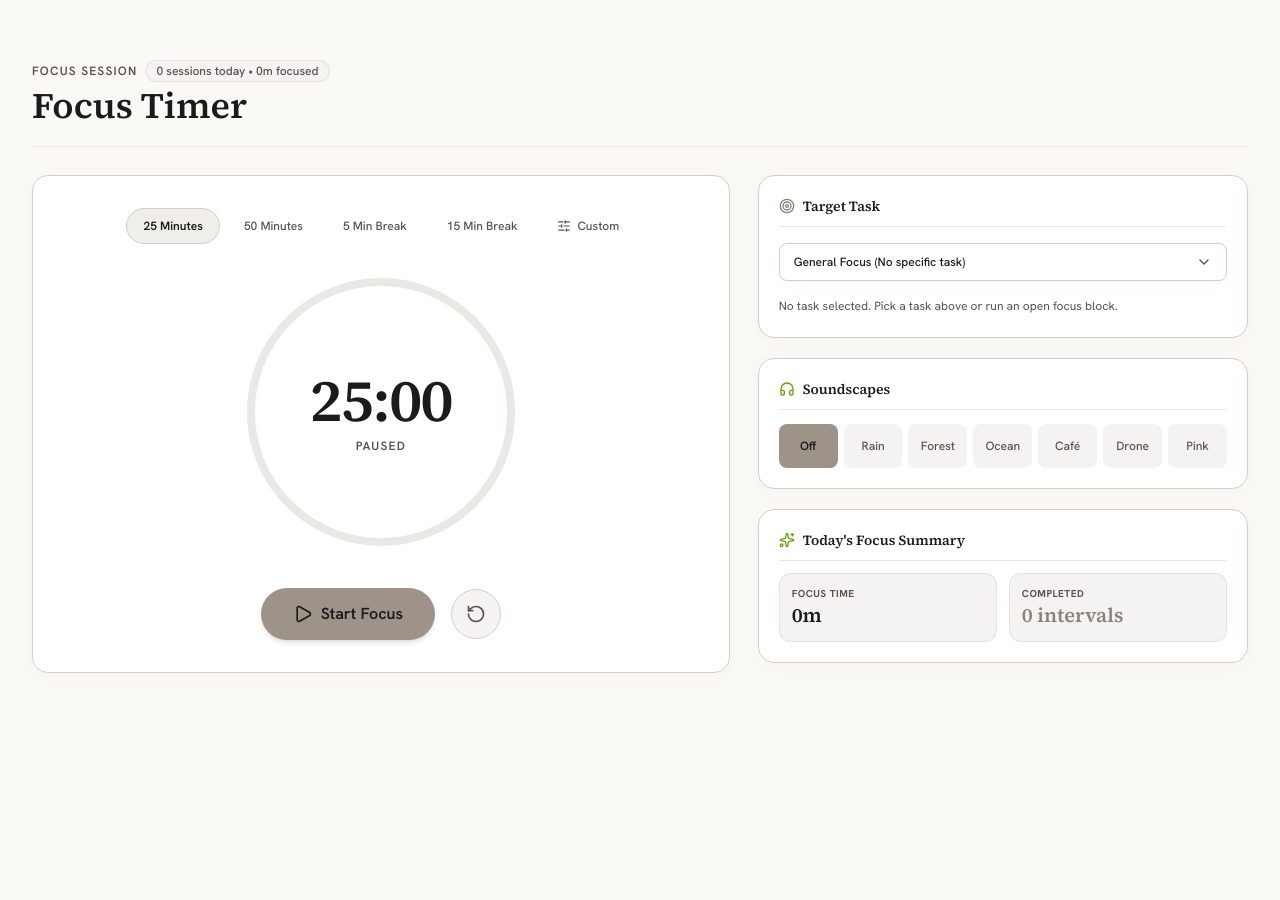
FocusView Component › renders timer presets and switches countdown display
Expected: the heading "Focus Timer" is shown, [32,81,247,130]
Expected: the text "25:00" is shown, [310,370,452,430]
Click the button "5 Min Break" at [375, 226], box [327,208,423,244]
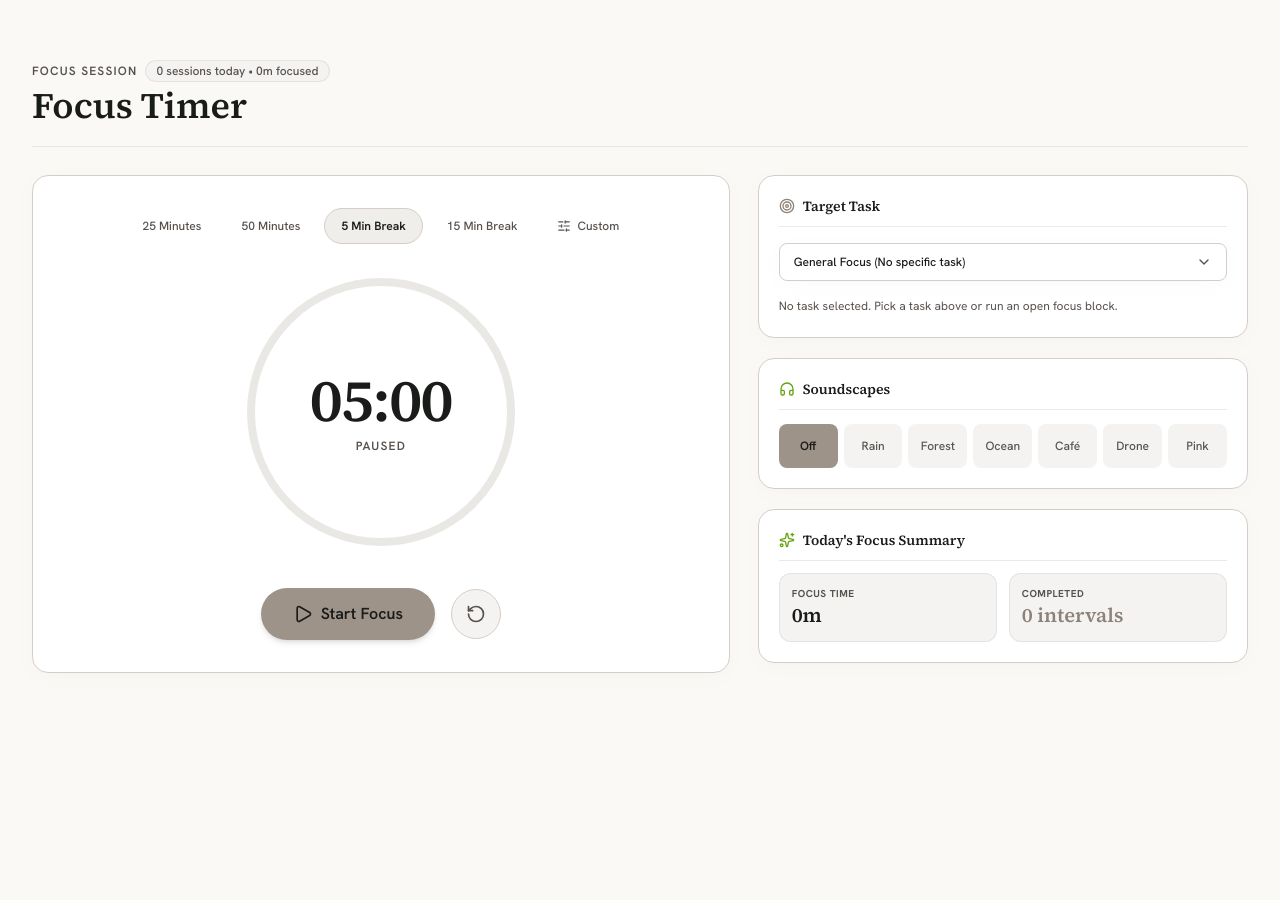
Now the text "05:00" is shown, box [310,370,452,430]
Click the button "50 Minutes" at [271, 226], box [225,208,316,244]
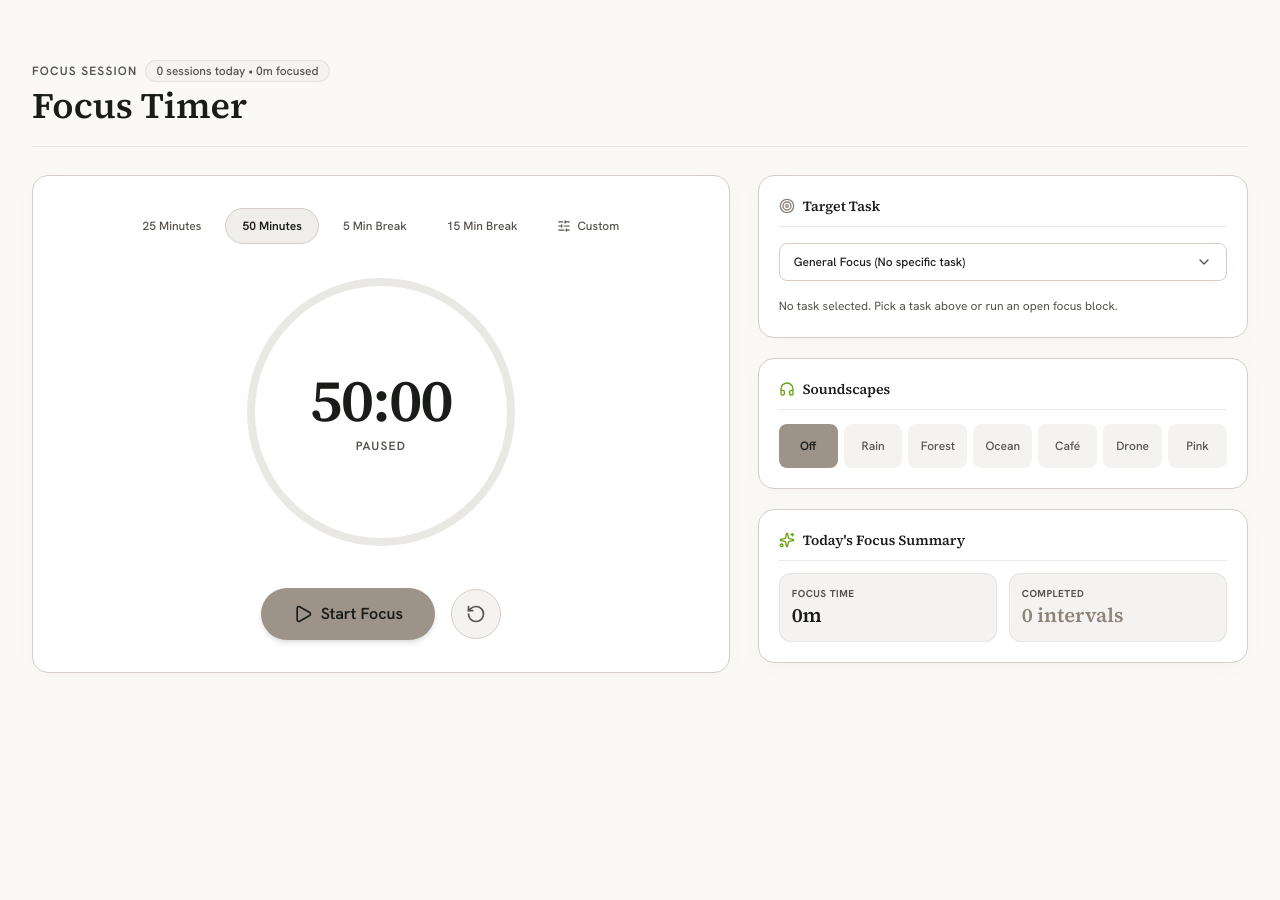
Now the text "50:00" is shown, box [310,370,452,430]
